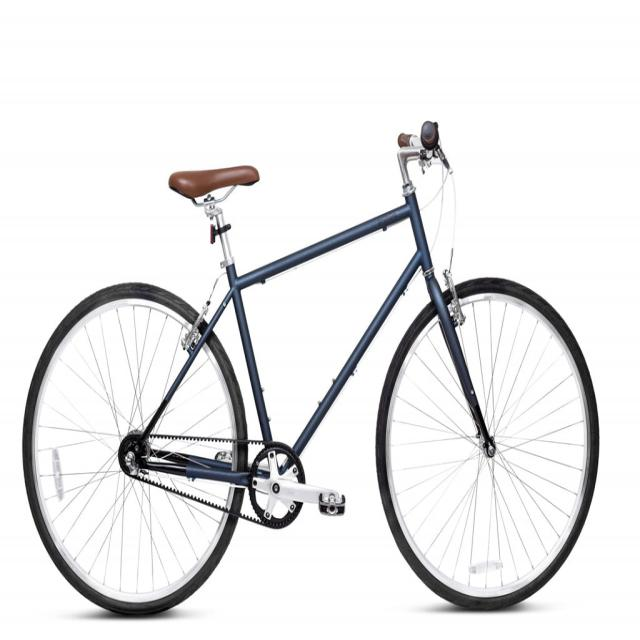bicycle: (17, 65, 621, 640)
